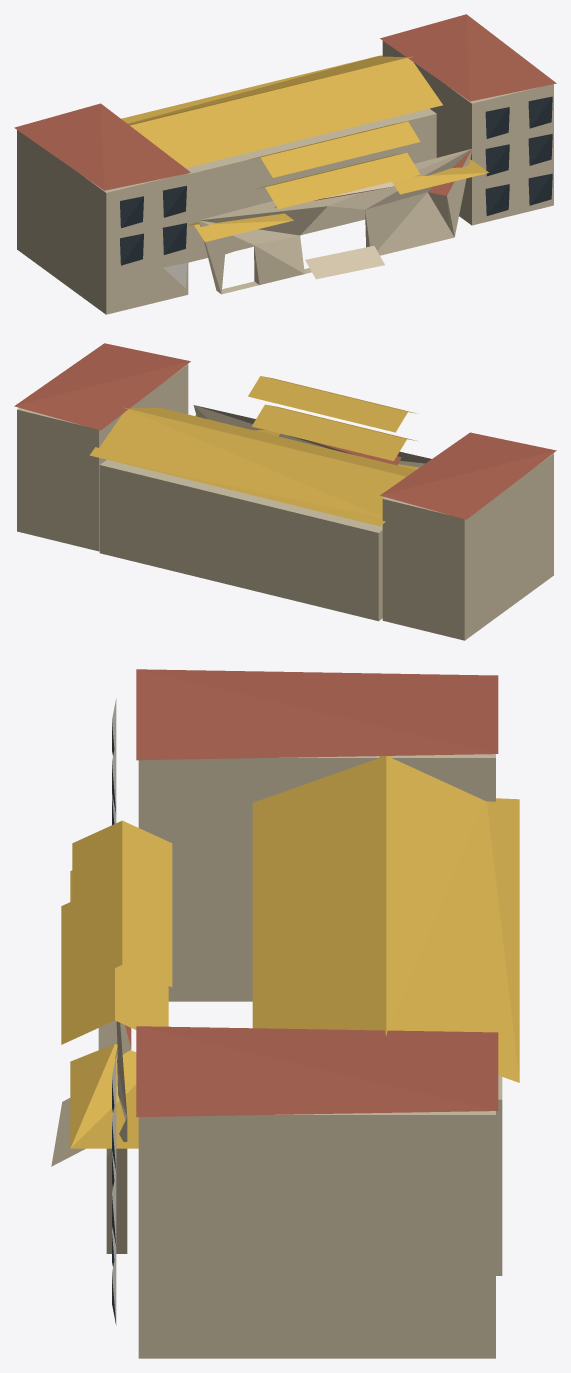
The model's file is he-hua-temple.lod2.glb.
3 views of the same model, one above another, from view 1: azimuth 30°, elevation 25°; view 2: azimuth 150°, elevation 25°; view 3: azimuth 270°, elevation 25° (orthographic). The views are drawn at different scales.
Visible parts, largest first — view 1: lod2; view 2: lod2; view 3: lod2.
Part boxes in pixels (x1,y1,x2,y2): lod2: (14,14,556,314); lod2: (14,343,556,640); lod2: (51,669,519,1358).
Size of the model in its own units: 38.08 by 10.05 by 17.07.
